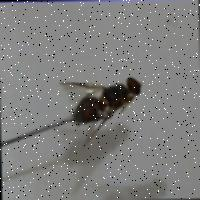Oriental-fruit-fly: (44, 61, 158, 149)
